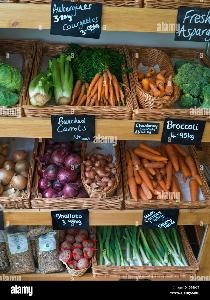carrot: (124, 139, 210, 205), (74, 44, 134, 112), (138, 52, 176, 109)
onion: (76, 141, 118, 199), (38, 142, 78, 200), (0, 150, 36, 200)
